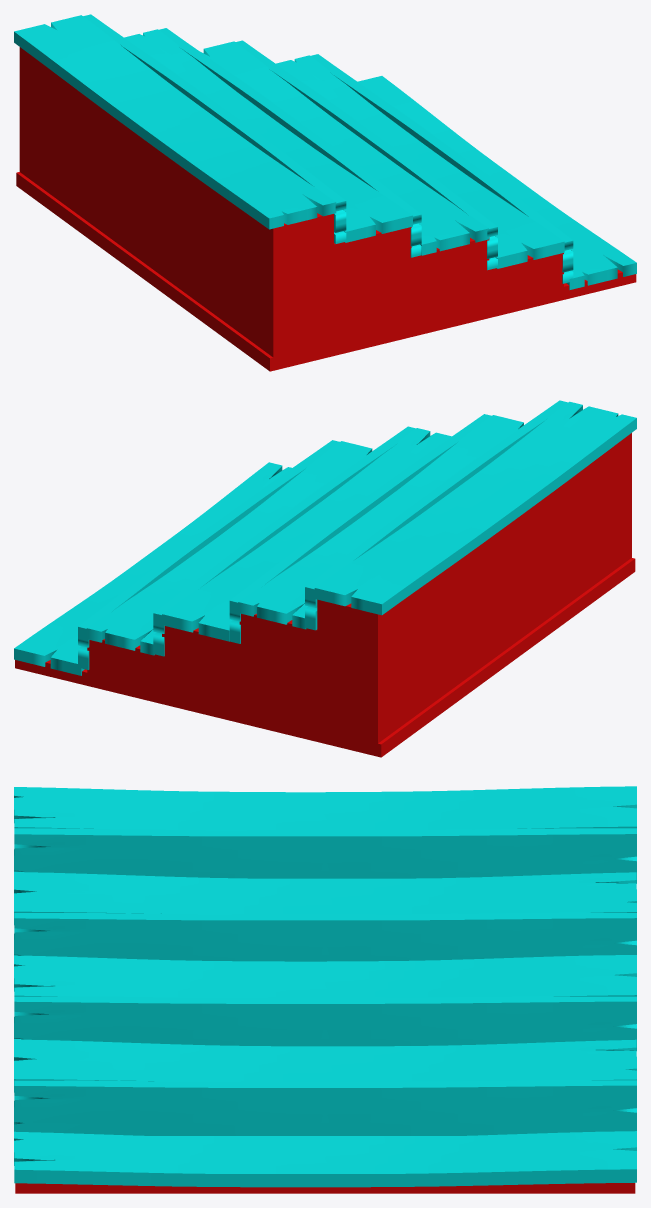
File: Stairs.fbx
3 renders of one model, top to bottom at view 1: azimuth 30°, elevation 25°; view 2: azimuth 150°, elevation 25°; view 3: azimuth 270°, elevation 25°, orthographic. The views are drawn at different scales.
Parts seen in each view (by area): view 1: polySurface1, pCube20; view 2: polySurface1, pCube20; view 3: polySurface1, pCube20.
Boxes of the visible parts, <box> form: polySurface1: <box>14,14,636,289</box>; pCube20: <box>16,47,636,371</box>; polySurface1: <box>14,400,636,675</box>; pCube20: <box>15,433,635,757</box>; polySurface1: <box>14,786,636,1187</box>; pCube20: <box>15,1183,635,1193</box>.
Bounding box in the file's own units: 188 × 75.14 × 225.
